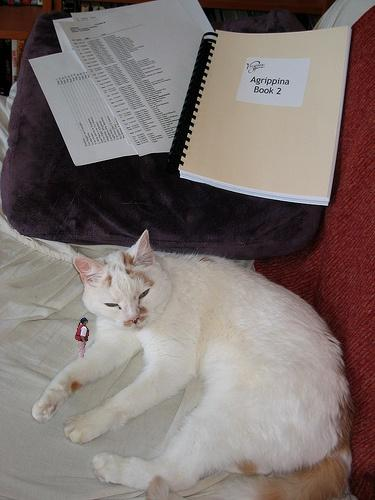tampered: (76, 318, 258, 358)
